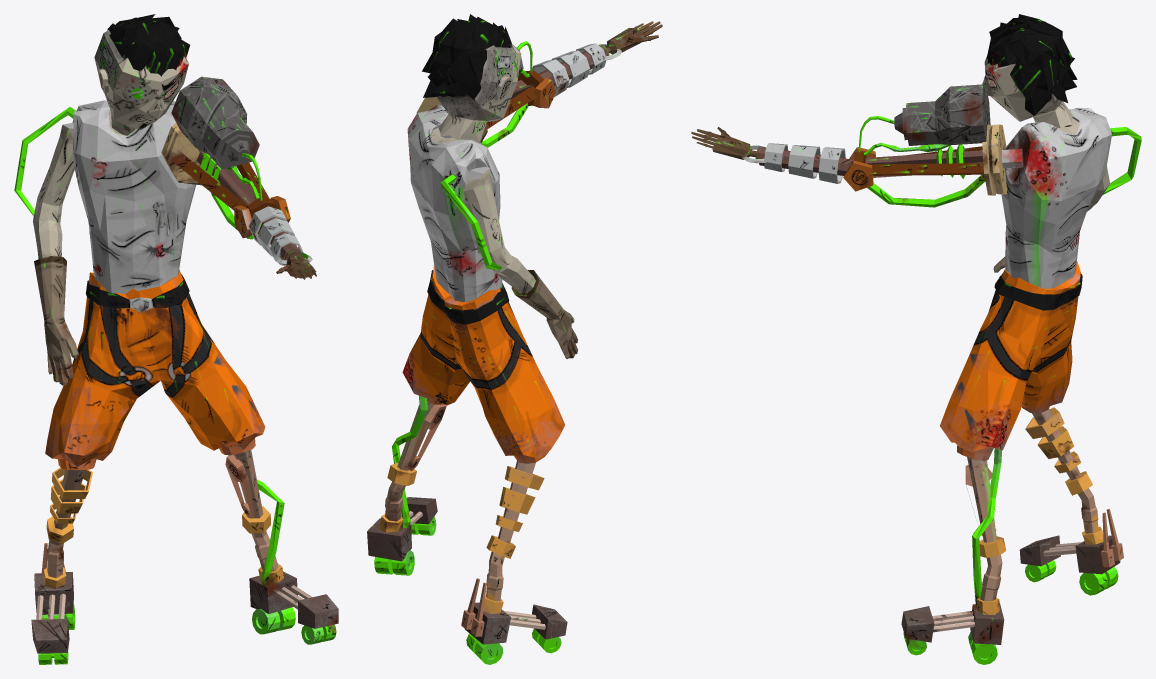
Rendered from CyborgFINALAnimation_000131.obj.
3 views of the same model, side by side, from view 1: azimuth 30°, elevation 25°; view 2: azimuth 150°, elevation 25°; view 3: azimuth 270°, elevation 25° (orthographic). The views are drawn at different scales.
Visible parts, largest first — view 1: CyborgMesh_Cube.002; view 2: CyborgMesh_Cube.002; view 3: CyborgMesh_Cube.002.
Part boxes in pixels (<box>): CyborgMesh_Cube.002: <box>14,14,338,664</box>; CyborgMesh_Cube.002: <box>367,14,662,664</box>; CyborgMesh_Cube.002: <box>691,14,1141,664</box>.
Bounding box in the file's own units: 3.72 × 9.51 × 6.51.
